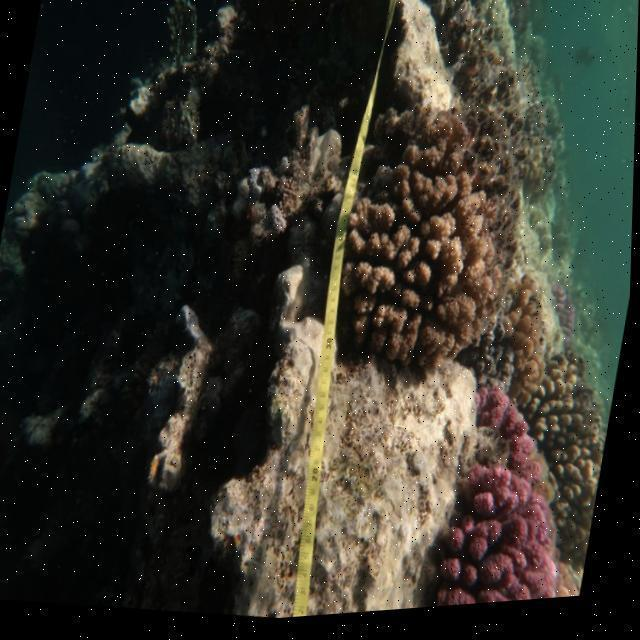Healthy Coral: (342, 96, 540, 372), (412, 373, 600, 616)
